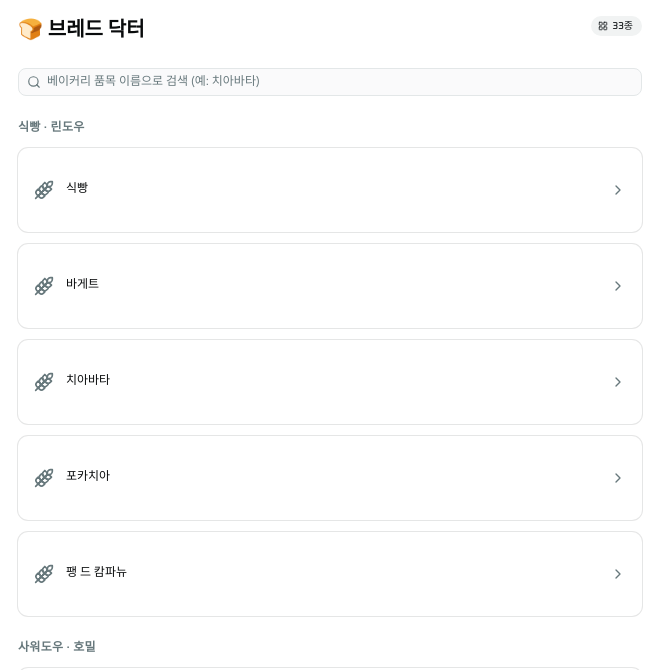
Test case: BreadDoctor › Scenario 1: 안부풂+속떡짐+옆구리터짐 선택 → 판별 질문 없이 1순위 발효 부족
Click the button "식빵". click: (44, 190)
box: [18,164,642,216]
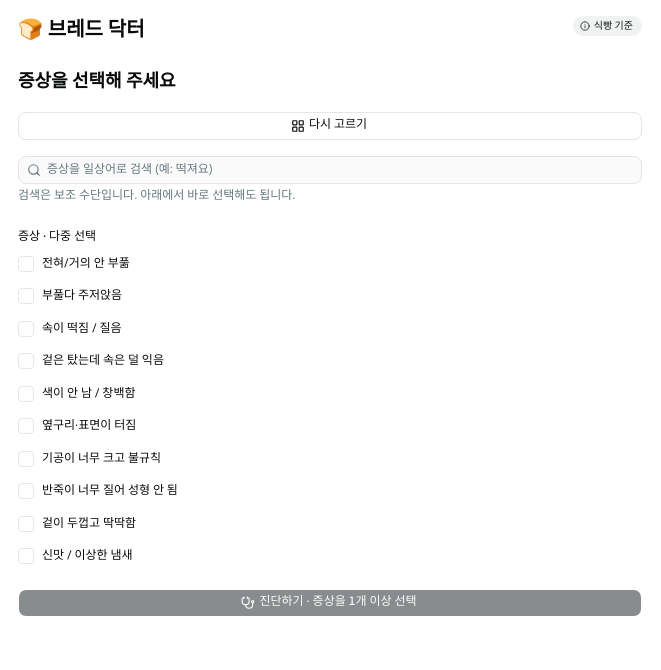
Click the checkbox named "전혀/거의 안 부풂" next to "전혀/거의 안 부풂". click: (26, 264)
box: [18,256,34,272]
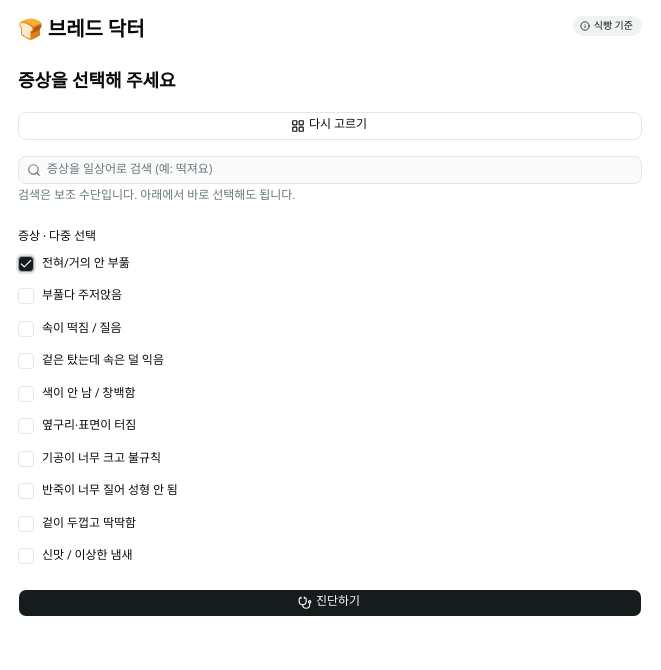
Click the checkbox named "속이 떡짐 / 질음" next to "속이 떡짐 / 질음". click: (26, 329)
box: [18,321,34,337]
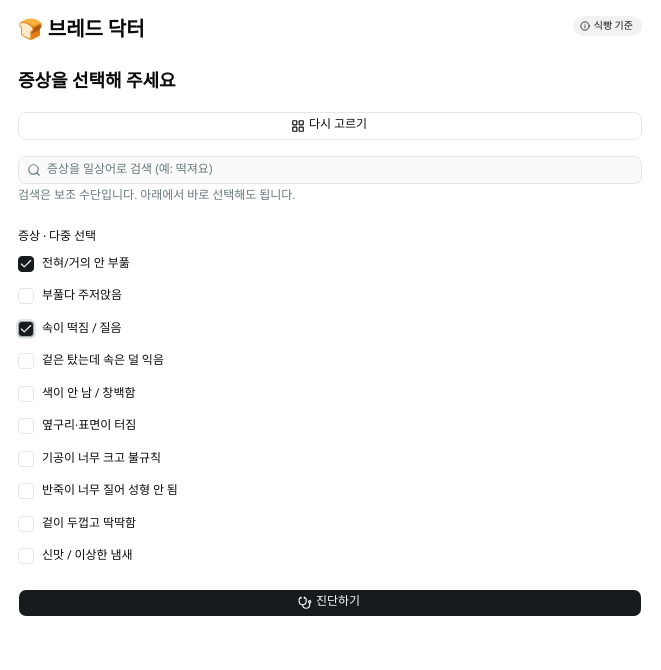
Click the checkbox named "옆구리·표면이 터짐" next to "옆구리·표면이 터짐". click: (26, 426)
box: [18,418,34,434]
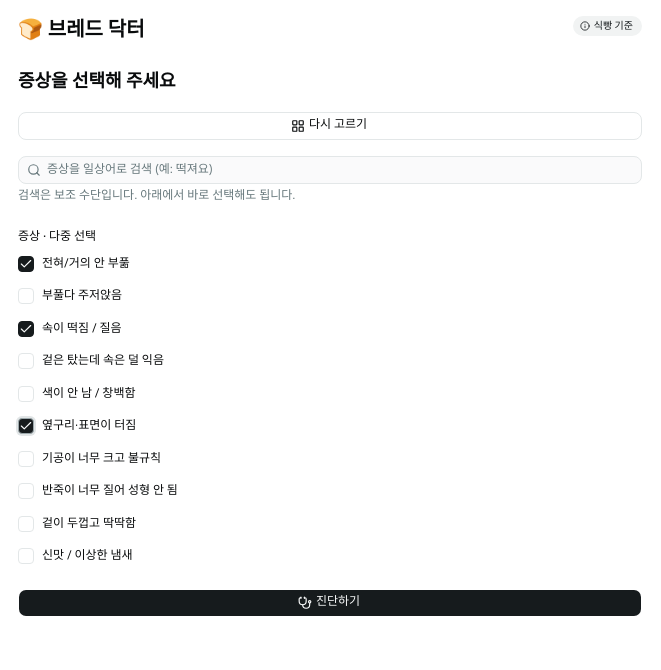
Click the button "진단하기". click: (330, 602)
box: [18,588,642,616]
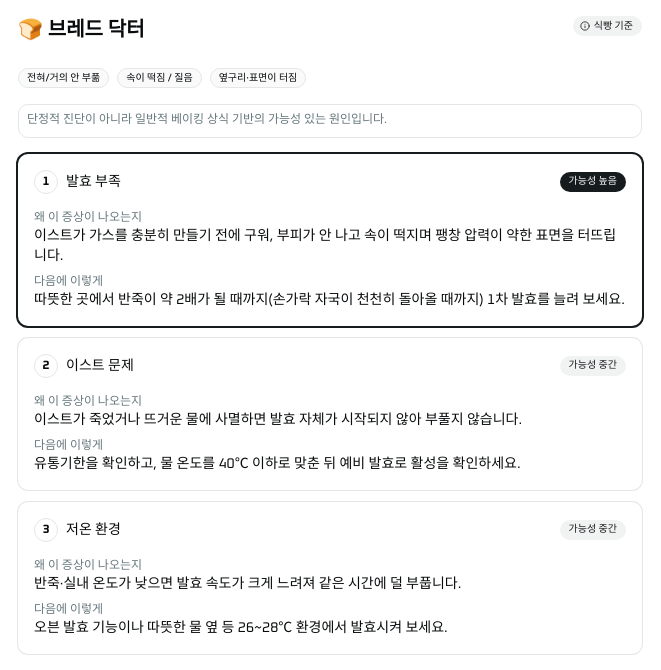
Expected: the text "식빵 기준" is shown, [573,16,642,36]
Expected: the text "발효 부족" is shown, [66,174,121,188]
